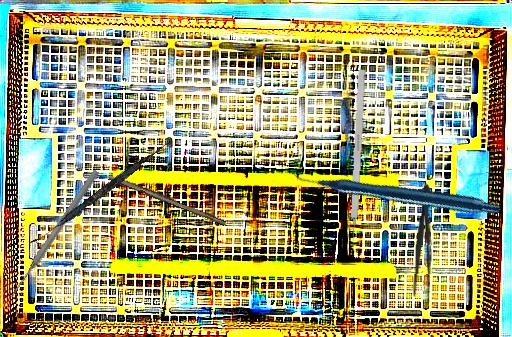Dressing Forceps: (411, 183, 436, 307)
Handpiece: (287, 81, 504, 297)
Hook Surgical: (348, 69, 366, 253)
Pusher: (7, 168, 101, 300)
Scalpel Handle: (107, 172, 228, 227)
Spatula Surgical: (30, 137, 170, 250)
